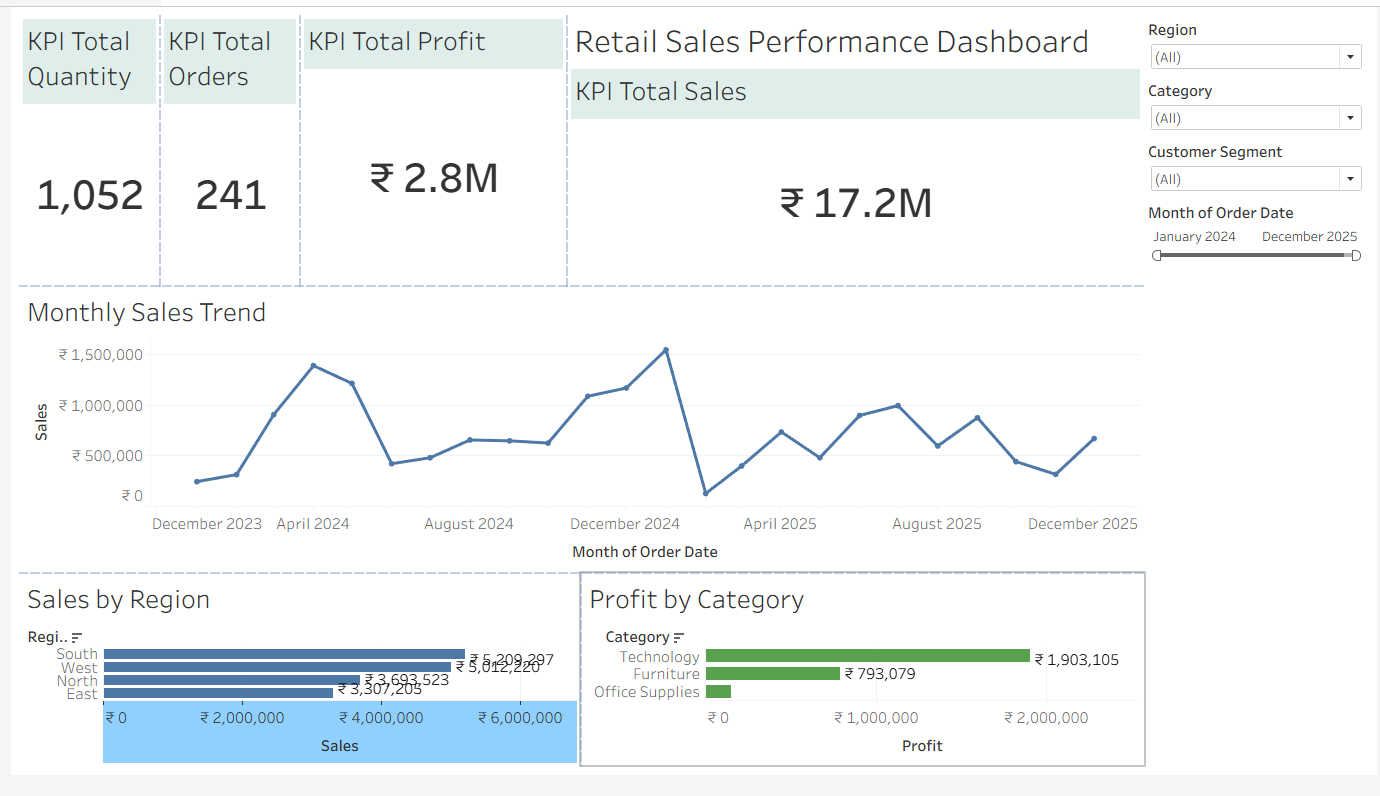

What the dashboard file says about the page in this screenshot:
{"tool":"tableau","page":{"name":"Retail Sales Dashboard","canvas":[1000,1000],"units":"permille","ordinal":0},"visuals":[{"type":"worksheet","title":"KPI Total Quantity","mark":"Automatic","box":[5.9,10.4,102.9,352.9]},{"type":"worksheet","title":"KPI Total Orders","mark":"Automatic","box":[108.8,10.4,102.9,352.9]},{"type":"worksheet","title":"KPI Total Profit","mark":"Automatic","box":[211.7,10.4,195.4,352.9]},{"type":"title","box":[407.1,10.4,422.4,65.1]},{"type":"filter","title":"Sales by Region","param":"[federated.1fal28b06pknp21gny1oa0zp3che].[none:Region:nk]","box":[829.4,10.4,164.7,79.4]},{"type":"worksheet","title":"KPI Total Sales","mark":"Automatic","box":[407.1,75.5,422.4,287.8]},{"type":"filter","title":"Profit by Category","param":"[federated.1fal28b06pknp21gny1oa0zp3che].[none:Category:nk]","box":[829.4,89.9,164.7,79.4]},{"type":"filter","title":"Monthly Sales Trend","param":"[federated.1fal28b06pknp21gny1oa0zp3che].[none:Customer_Segment:nk]","box":[829.4,169.3,164.7,79.4]},{"type":"filter","title":"Monthly Sales Trend","param":"[federated.1fal28b06pknp21gny1oa0zp3che].[tmn:Order_Date:qk]","box":[829.4,248.7,164.7,95.1]},{"type":"worksheet","title":"Monthly Sales Trend","mark":"Automatic","rows":["Sales"],"cols":["Order_Date"],"box":[5.9,363.3,823.6,373.7]},{"type":"worksheet","title":"Sales by Region","mark":"Automatic","rows":["Region"],"cols":["Sales"],"box":[5.9,737,411.7,252.6]},{"type":"worksheet","title":"Profit by Category","mark":"Automatic","rows":["Category"],"cols":["Profit"],"box":[417.6,737,411.8,252.6]}]}

Visuals, with their boxes on the dashboard's canvas, which has no fixed pixel size, in thousandths of its width and height (x1, y1, x2, y2). These are canvas units, not pixel positions in the 1380x796 screenshot, which may show the page scaled, cropped or inside an application window:
"KPI Total Quantity" worksheet: bbox=[6, 10, 109, 363]
"KPI Total Orders" worksheet: bbox=[109, 10, 212, 363]
"KPI Total Profit" worksheet: bbox=[212, 10, 407, 363]
title: bbox=[407, 10, 830, 76]
"Sales by Region" filter: bbox=[829, 10, 994, 90]
"KPI Total Sales" worksheet: bbox=[407, 76, 830, 363]
"Profit by Category" filter: bbox=[829, 90, 994, 169]
"Monthly Sales Trend" filter: bbox=[829, 169, 994, 249]
"Monthly Sales Trend" filter: bbox=[829, 249, 994, 344]
"Monthly Sales Trend" worksheet: bbox=[6, 363, 830, 737]
"Sales by Region" worksheet: bbox=[6, 737, 418, 990]
"Profit by Category" worksheet: bbox=[418, 737, 829, 990]
